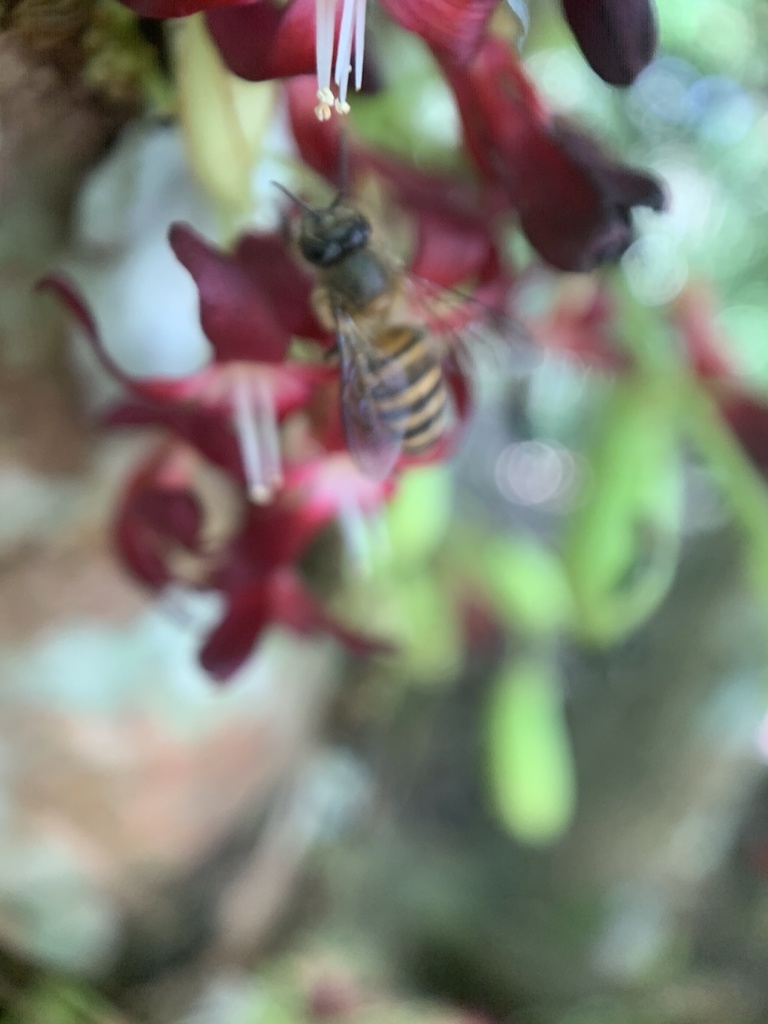not_bumblebee: (266, 126, 545, 488)
